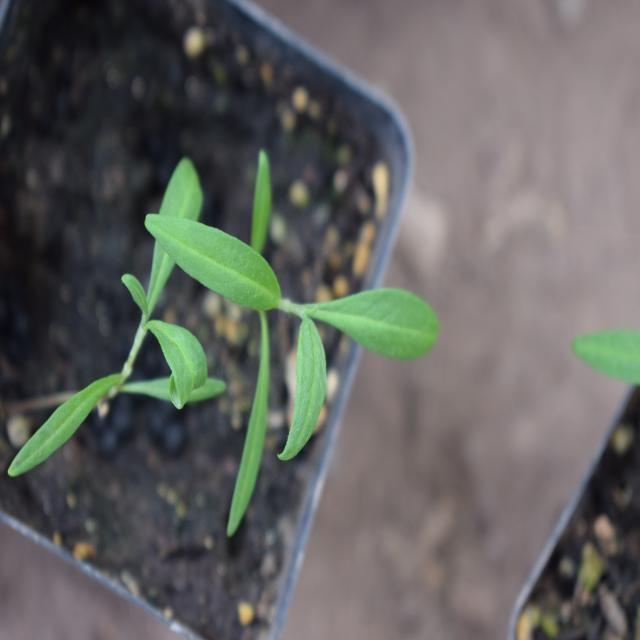white_smart_weed: (176, 164, 441, 506)
